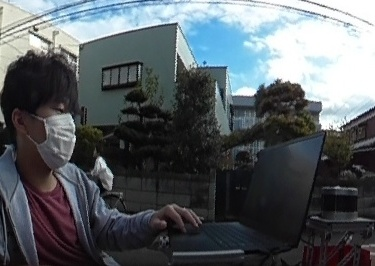person: (89, 144, 114, 190)
